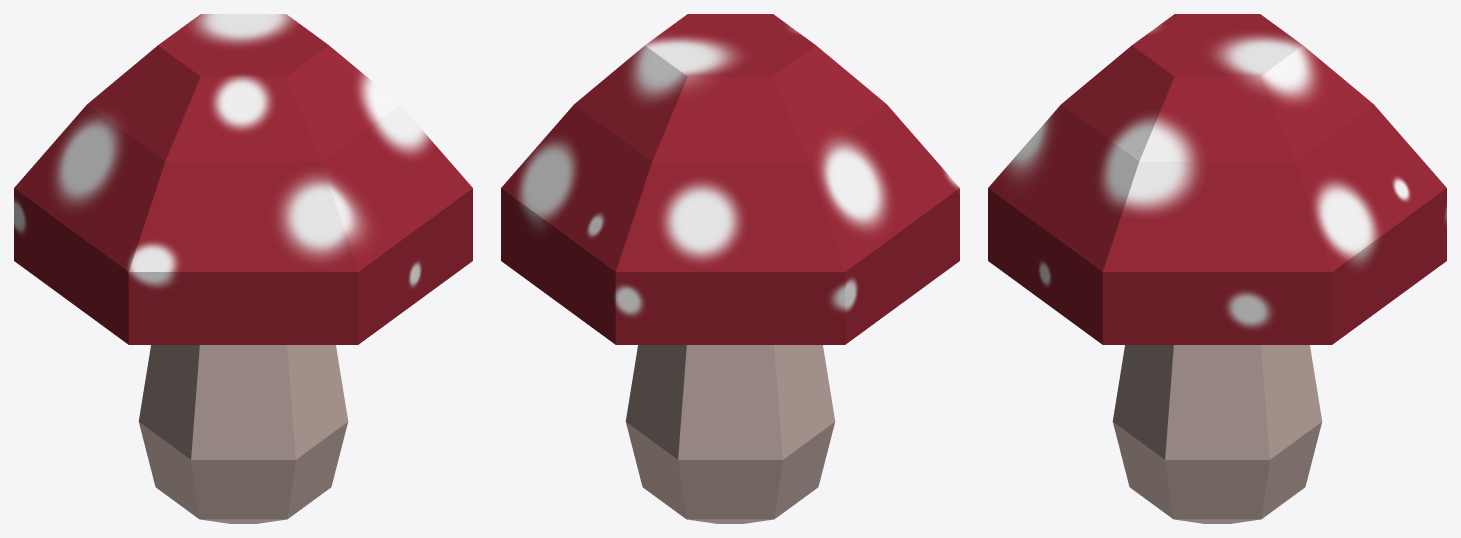
File: agaric.fbx
The picture shows the model from 3 angles, left to right: view 1: azimuth 30°, elevation 25°; view 2: azimuth 150°, elevation 25°; view 3: azimuth 270°, elevation 25°; orthographic projection.
Parts seen in each view (by area): view 1: agaric; view 2: agaric; view 3: agaric.
Part boxes in pixels (x1,y1,x2,y2): agaric: (14, 14, 472, 523); agaric: (501, 14, 959, 523); agaric: (988, 14, 1446, 523).
Bounding box in the file's own units: 88.09 × 115 × 102.
